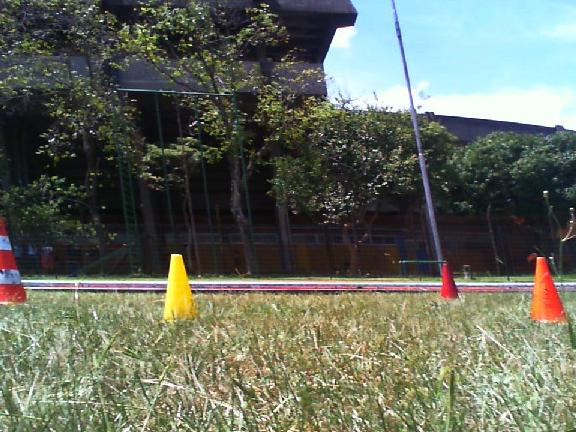0 cone: (529, 256, 567, 324), (0, 218, 28, 305), (163, 255, 198, 324), (440, 263, 461, 299)
